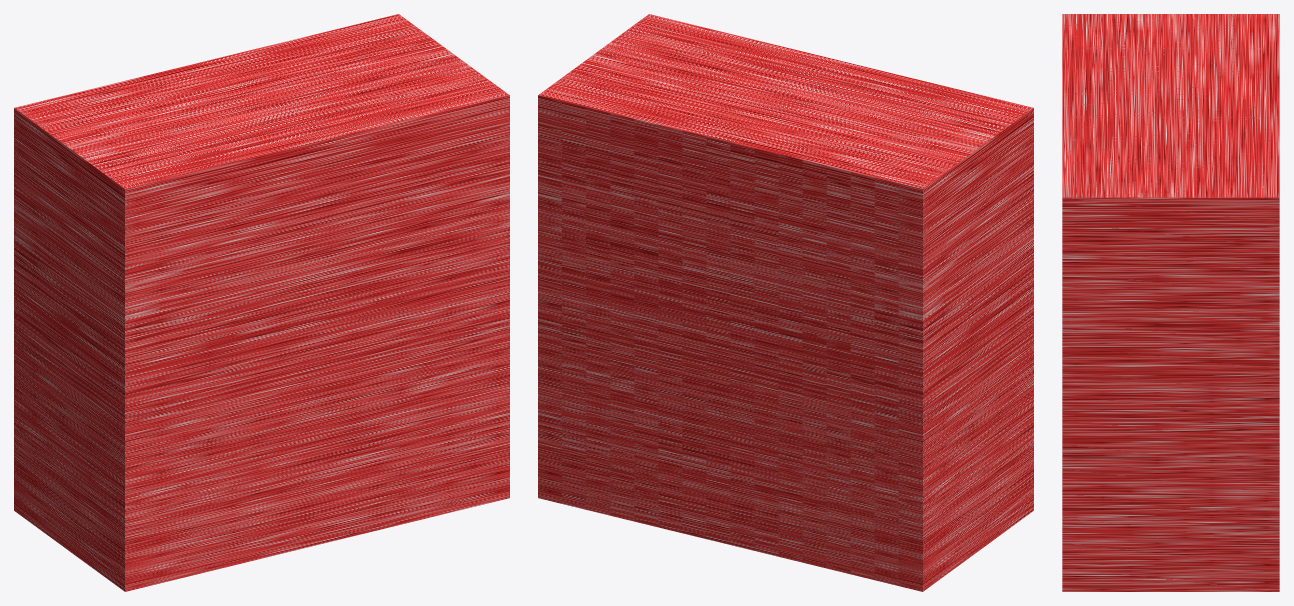
Rendered from tier3_piece_11.obj.
The picture shows the model from 3 angles, left to right: view 1: azimuth 30°, elevation 25°; view 2: azimuth 150°, elevation 25°; view 3: azimuth 270°, elevation 25°; orthographic projection. The views are drawn at different scales.
Parts seen in each view (by area): view 1: tier3_piece_11; view 2: tier3_piece_11; view 3: tier3_piece_11.
Part boxes in pixels (left/top/right/bottom): tier3_piece_11: left=14, top=14, right=509, bottom=591; tier3_piece_11: left=538, top=14, right=1033, bottom=591; tier3_piece_11: left=1062, top=14, right=1279, bottom=591.
Size of the model in its own units: 1 by 1 by 0.5.
